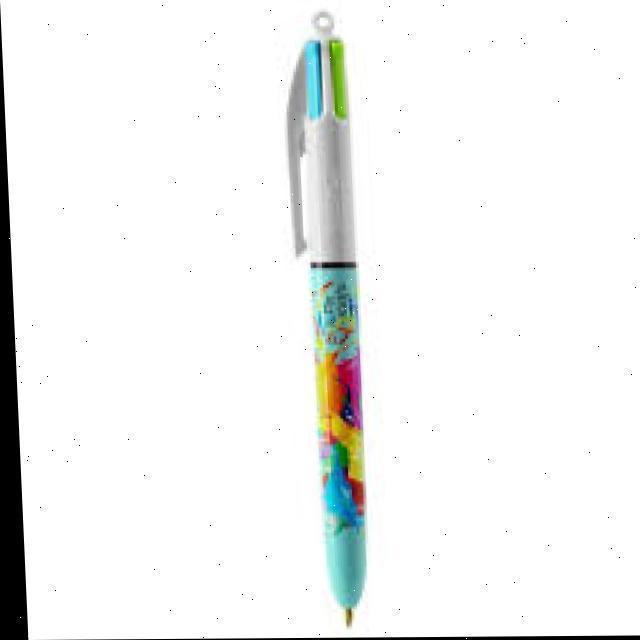pen: (276, 7, 372, 630)
